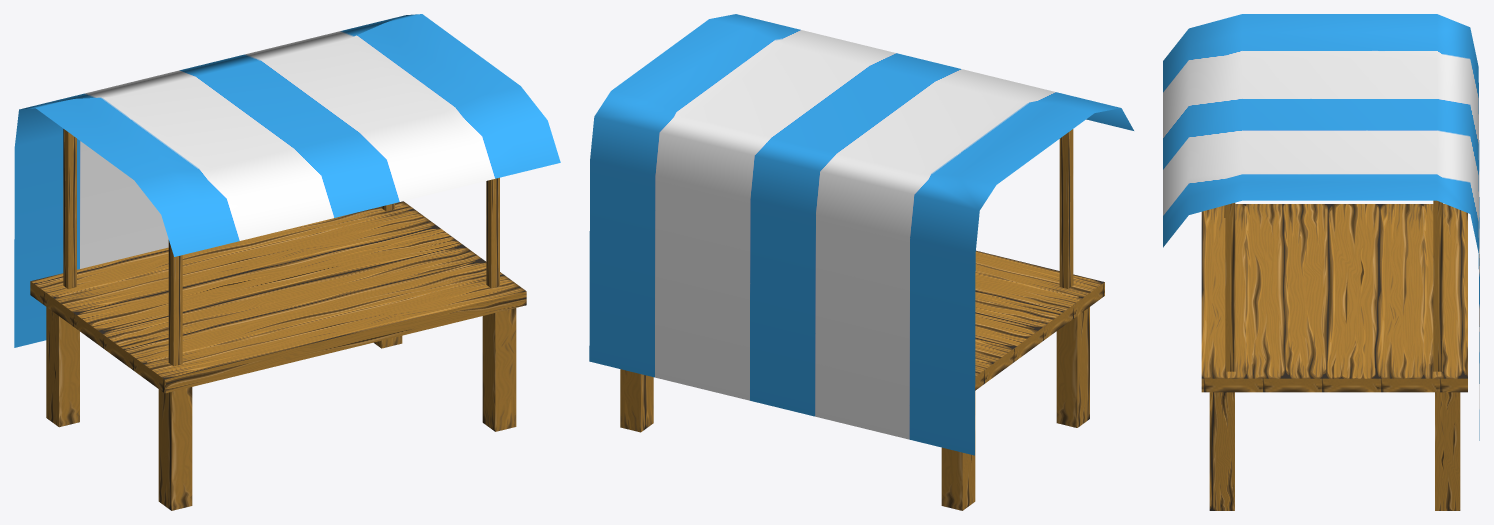
Rendered from stall.fbx.
3 views of the same model, side by side, from view 1: azimuth 30°, elevation 25°; view 2: azimuth 150°, elevation 25°; view 3: azimuth 270°, elevation 25° (orthographic).
Parts seen in each view (by area): view 1: pCube17; view 2: pCube17; view 3: pCube17.
Boxes of the visible parts, bbox=[...] form: pCube17: bbox=[14, 14, 560, 510]; pCube17: bbox=[589, 14, 1133, 510]; pCube17: bbox=[1163, 14, 1479, 510].
Bounding box in the file's own units: 8.54 × 6.83 × 6.12.
